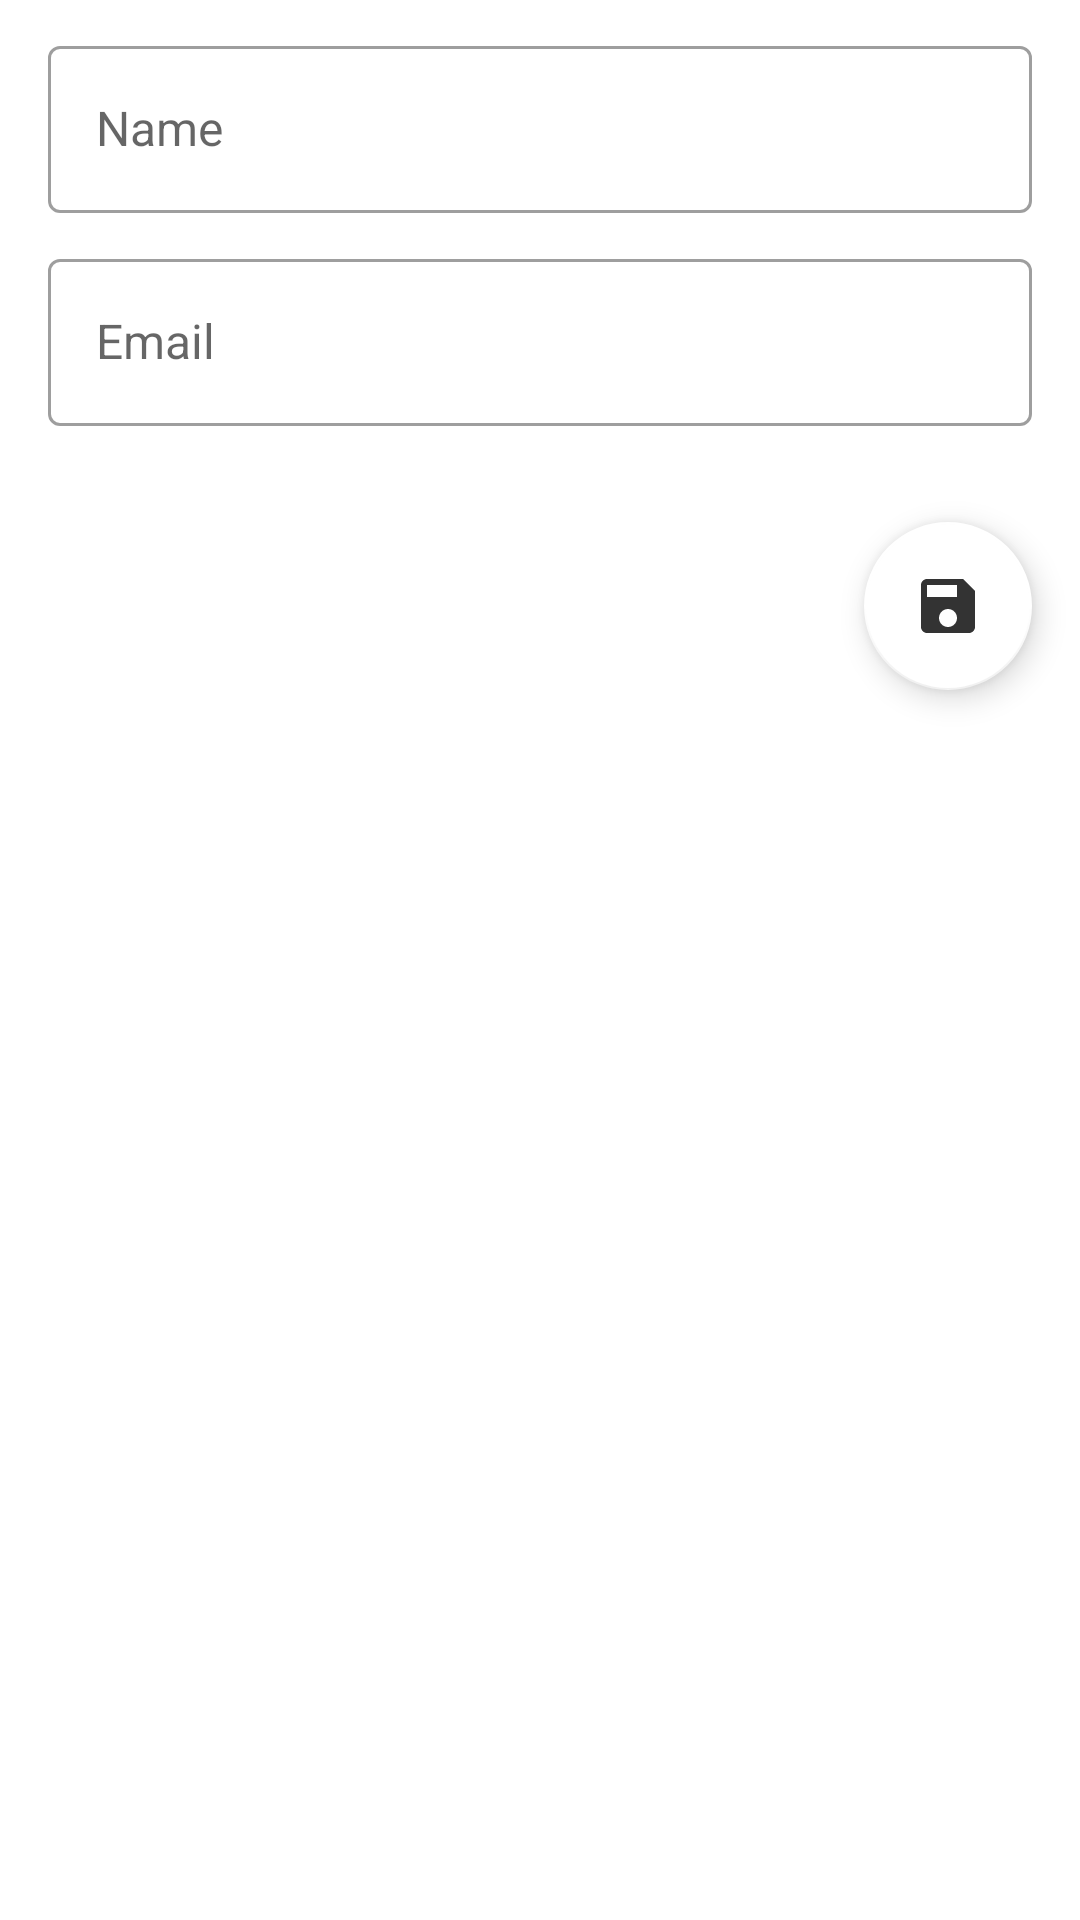

Icons on this 1080x1920 Android screen, each with its box as (x1, y1, x2, y2):
save: (894, 572, 1032, 690)
